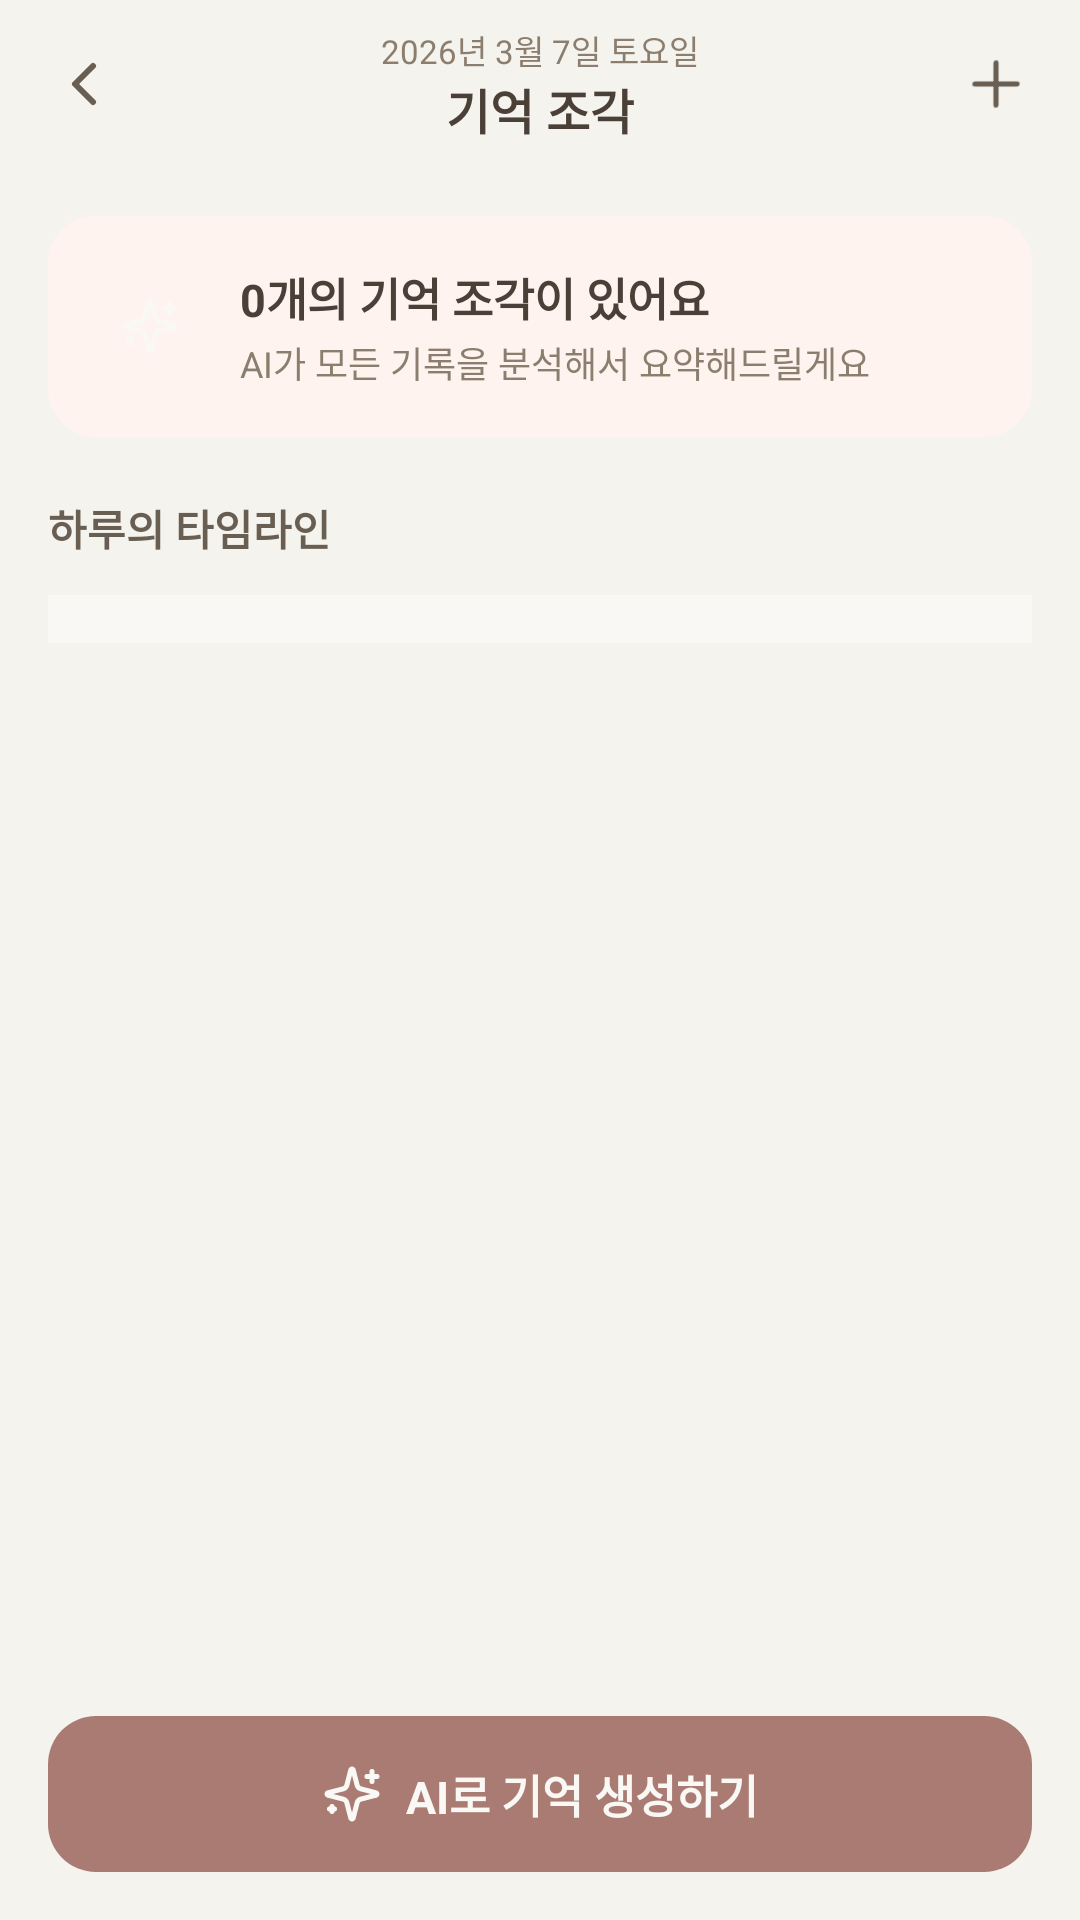

Where icons sit on this 1080 × 1920 app screen, as (x1, y1, x2, y2):
뒤로가기: (72, 63, 96, 105)
